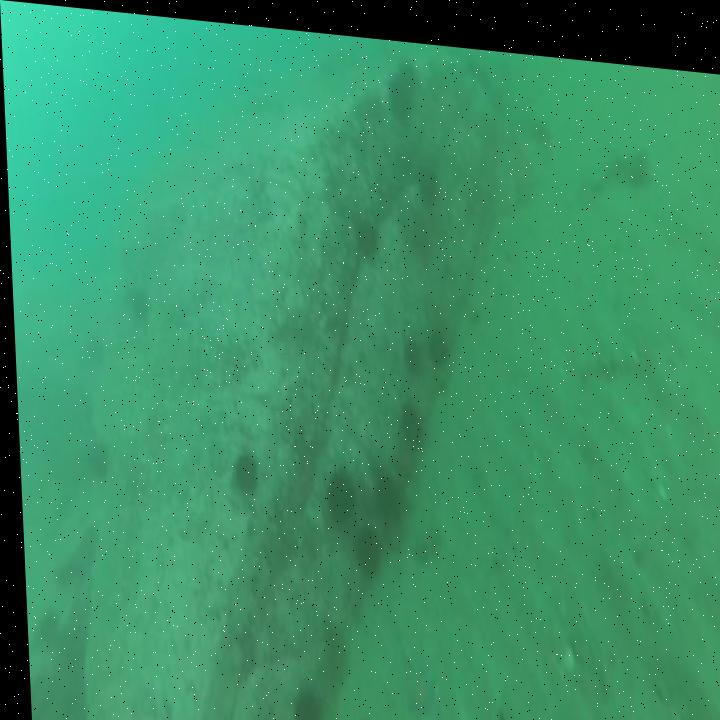echinus: (324, 464, 352, 514), (352, 521, 376, 571), (374, 467, 399, 513), (291, 681, 317, 720), (392, 64, 415, 108), (354, 208, 379, 246), (229, 451, 254, 489), (397, 396, 418, 440), (427, 324, 446, 361), (417, 162, 442, 190), (403, 336, 420, 360)
starfish: (404, 196, 433, 255), (397, 655, 427, 705), (406, 519, 433, 550)
